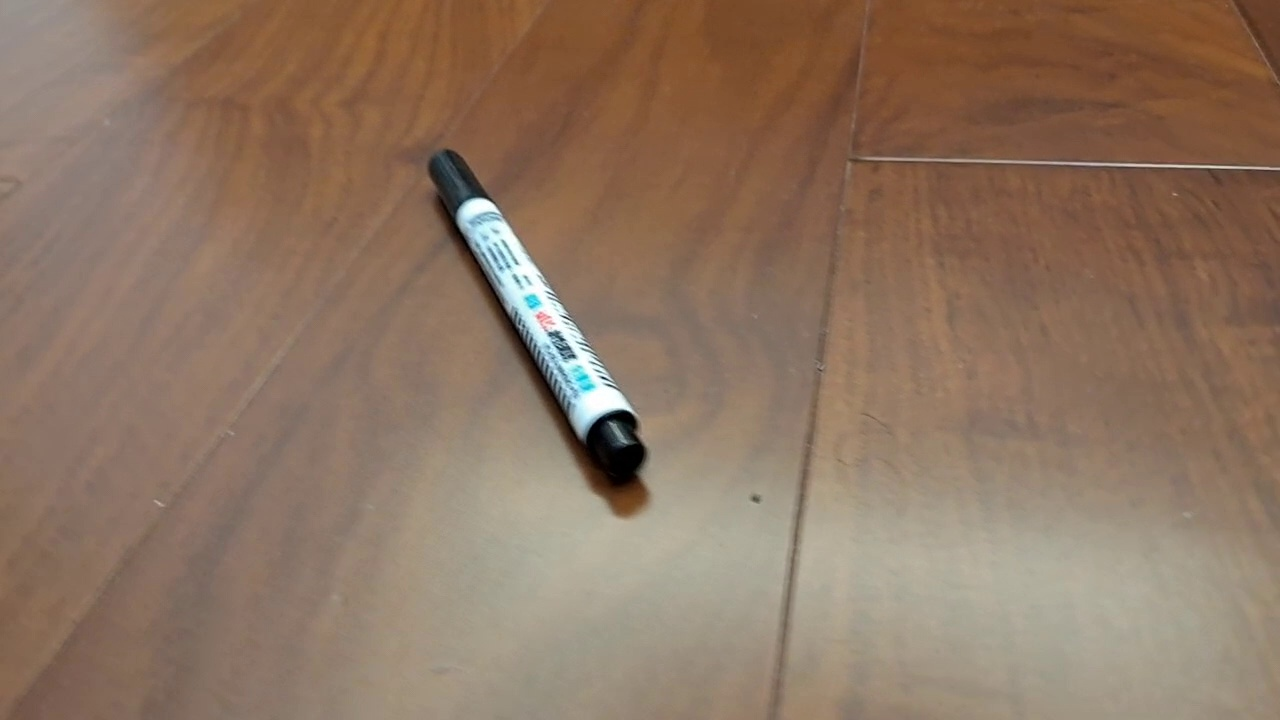pen: (427, 148, 649, 487)
